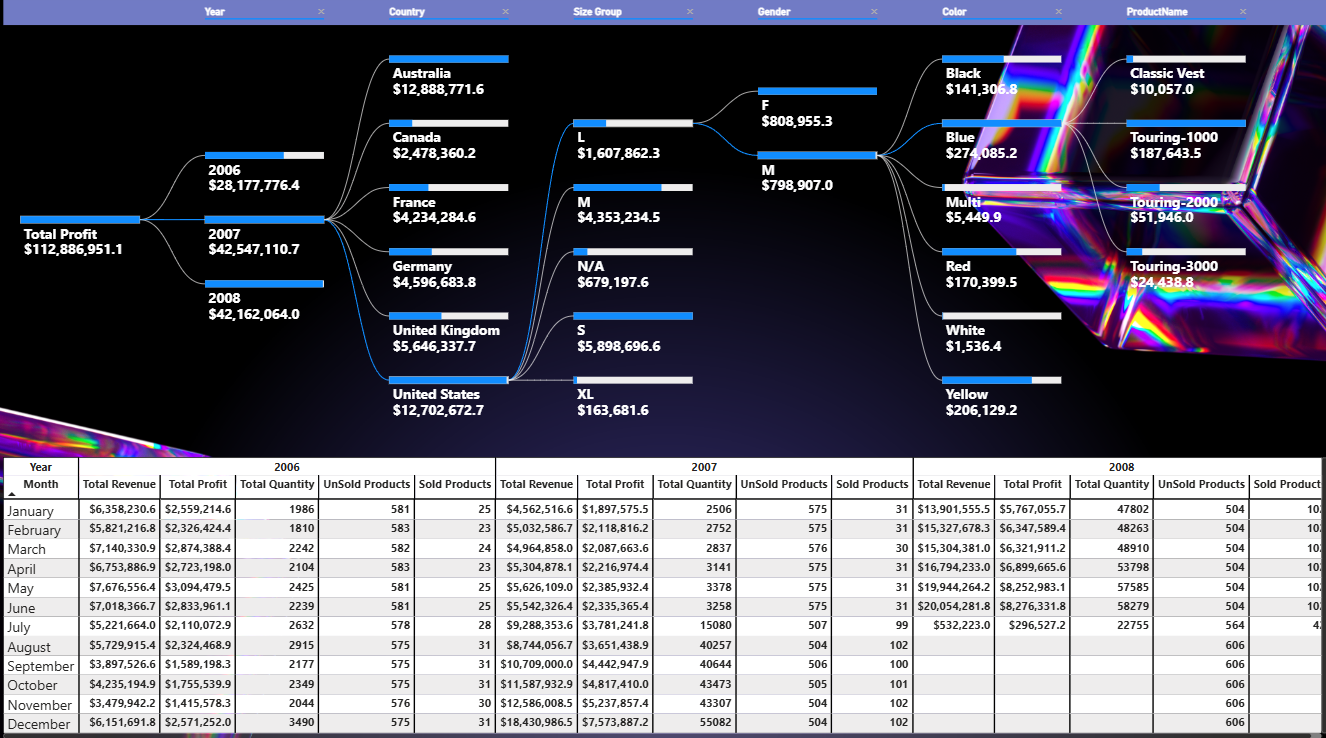

This screenshot's page, from the dashboard's own definition file:
{"tool":"powerbi","page":{"name":"Analysis & What's !","canvas":[1920,1080],"ordinal":4},"visuals":[{"type":"decompositionTreeVisual","fields":{"Analyze":["0.Total Profit"],"ExplainBy":["DimDate.Date.Variation.Date Hierarchy.Year","DimGeography.Country","DimProduct.Size Group","DimCustomer.Gender","DimProduct.Color","DimProduct.ProductName"]},"box":[0,0,1920.4,663.6],"z":0},{"type":"pivotTable","fields":{"Columns":["DimDate.Year"],"Rows":["DimDate.Date.Variation.Date Hierarchy.Month"],"Values":["0.Total Revenue","0.Total Profit","0.Total Quantity","0.UnSold Products","0.Sold Products"]},"box":[0,663.6,1920.4,416.5],"z":1000}]}

Visuals, with their boxes in screenshot pixels (x1, y1, x2, y2), scaled from the page's 1920x1080 canvas onto the 1326x738 screenshot:
decompositionTreeVisual - 0.Total Profit x DimDate.Date.Variation.Date Hierarchy.Year: [x1=0, y1=0, x2=1325, y2=453]
pivotTable - DimDate.Year x DimDate.Date.Variation.Date Hierarchy.Month: [x1=0, y1=453, x2=1325, y2=737]
